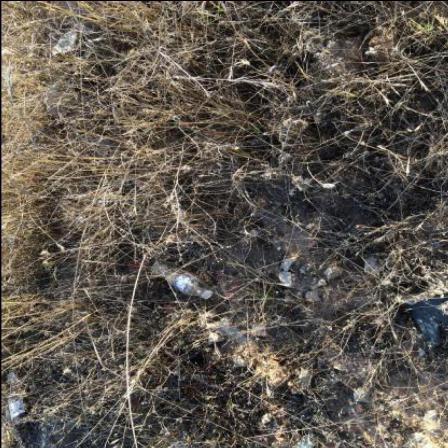Bottle: (151, 262, 213, 300), (7, 370, 35, 428)
Bottle cap: (201, 291, 212, 301)
Unlabeled litter: (51, 33, 77, 56)
